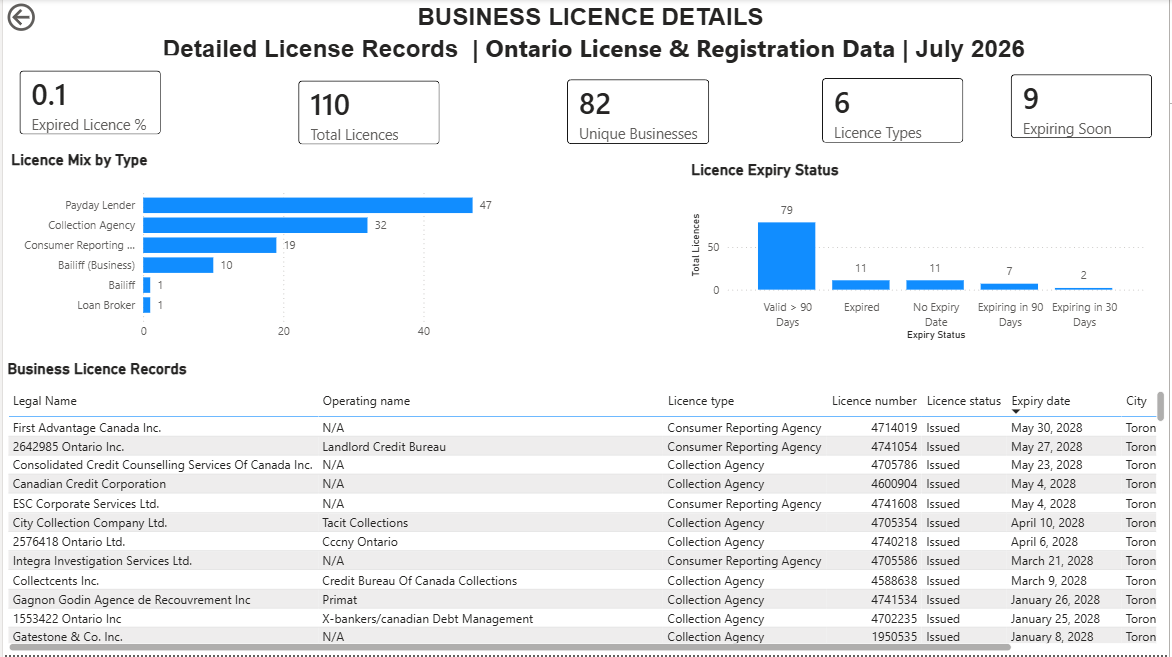

What the dashboard file says about the page in this screenshot:
{"tool":"powerbi","page":{"name":"Business Details","canvas":[1280,720],"ordinal":2},"visuals":[{"type":"textbox","box":[9.9,0,1270.4,69.4],"z":0},{"type":"actionButton","box":[0,0,100,40],"z":1000},{"type":"clusteredBarChart","title":"Licence Mix by Type","fields":{"Category":["BusinessLicences.Licence type"],"Y":["BusinessLicences.Total Licences"]},"box":[4.2,165.7,546.7,216.7],"z":2000},{"type":"clusteredColumnChart","title":"Licence Expiry Status","fields":{"Category":["BusinessLicences.Expiry Status"],"Y":["BusinessLicences.Total Licences"]},"box":[750.6,177,507.1,202.9],"z":3000},{"type":"tableEx","title":"Business Licence Records","fields":{"Values":["BusinessLicences.Legal Name","BusinessLicences.Operating name","BusinessLicences.Licence type","BusinessLicences.Licence number","BusinessLicences.Licence status","BusinessLicences.Expiry date","BusinessLicences.City","BusinessLicences.Province","BusinessLicences.Expiry Status"]},"box":[0,395.1,1280.3,325.7],"z":4000},{"type":"cardVisual","fields":{"Data":["BusinessLicences.Expired Licence %"]},"box":[1.7,61.6,189.8,104.8],"z":5000},{"type":"cardVisual","fields":{"Data":["BusinessLicences.Total Licences"]},"box":[307.6,61.6,189.8,104.8],"z":6000},{"type":"cardVisual","fields":{"Data":["BusinessLicences.Unique Businesses"]},"box":[603.6,61.5,190,105],"z":7000},{"type":"cardVisual","fields":{"Data":["BusinessLicences.Licence Types"]},"box":[882.6,61.5,190,105],"z":8000},{"type":"cardVisual","fields":{"Data":["BusinessLicences.Expiring Soon"]},"box":[1090.2,60.5,189.8,104.8],"z":9000}]}

Visuals, with their boxes in screenshot pixels (x1, y1, x2, y2), scaled from the page's 1280x720 canvas onto the 1172x657 screenshot:
textbox: crop(9, 0, 1171, 63)
actionButton: crop(0, 0, 92, 36)
"Licence Mix by Type" clusteredBarChart: crop(4, 151, 504, 349)
"Licence Expiry Status" clusteredColumnChart: crop(687, 162, 1152, 347)
"Business Licence Records" tableEx: crop(0, 361, 1171, 656)
cardVisual - BusinessLicences.Expired Licence %: crop(2, 56, 175, 152)
cardVisual - BusinessLicences.Total Licences: crop(282, 56, 455, 152)
cardVisual - BusinessLicences.Unique Businesses: crop(553, 56, 727, 152)
cardVisual - BusinessLicences.Licence Types: crop(808, 56, 982, 152)
cardVisual - BusinessLicences.Expiring Soon: crop(998, 55, 1171, 151)
